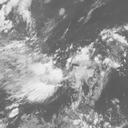cyclone: (24, 48, 91, 110)
